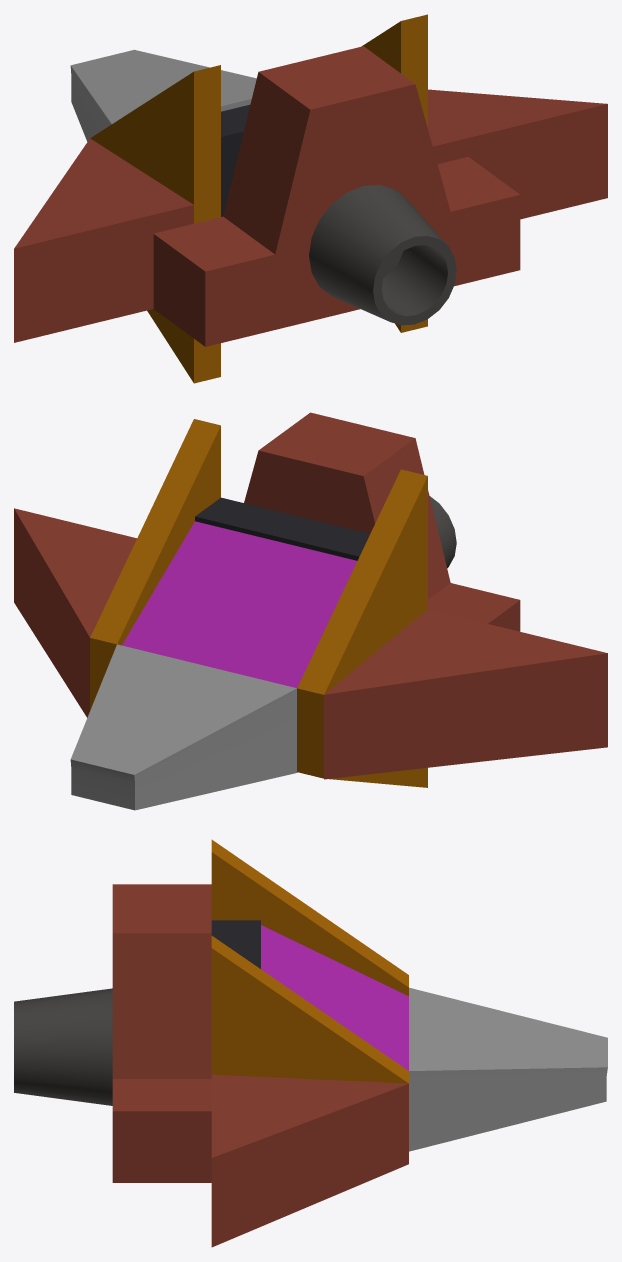
Rendered from Enemy.fbx.
3 views of the same model, one above another, from view 1: azimuth 30°, elevation 25°; view 2: azimuth 150°, elevation 25°; view 3: azimuth 270°, elevation 25° (orthographic). The views are drawn at different scales.
Parts seen in each view (by area): view 1: pCube4, pCube3, pCube6, pCube7, pCylinder1, pCube8, pCube2, pCube9, pCube5; view 2: pCube6, pCube5, pCube2, pCube8, pCube4, pCube7, pCube9, pCube3, pCylinder1; view 3: pCube7, pCube2, pCube4, pCube9, pCube5, pCylinder1, pCube3, pCube8.
Part boxes in pixels (x1,y1,x2,y2): pCube4: (223, 46, 450, 254); pCube3: (153, 157, 520, 346); pCube6: (14, 138, 193, 342); pCube7: (428, 89, 607, 219); pCylinder1: (309, 185, 456, 325); pCube8: (90, 65, 220, 383); pCube2: (70, 49, 256, 141); pCube9: (361, 14, 427, 332); pCube5: (221, 104, 250, 216); pCube6: (324, 609, 607, 779); pCube5: (122, 497, 369, 687); pCube2: (70, 644, 296, 810); pCube8: (297, 469, 427, 787); pCube4: (244, 412, 450, 599); pCube7: (14, 508, 136, 717); pCube9: (90, 419, 220, 710); pCube3: (428, 583, 520, 631); pCylinder1: (429, 496, 456, 568); pCube7: (211, 1074, 408, 1247); pCube2: (409, 987, 607, 1151); pCube4: (112, 884, 211, 1078); pCube9: (211, 936, 408, 1083); pCube5: (211, 920, 408, 1070); pCylinder1: (14, 988, 112, 1105); pCube3: (112, 1079, 211, 1182); pCube8: (211, 839, 408, 996).
Bounding box in the file's own units: 3.3 × 1.66 × 3.01.
